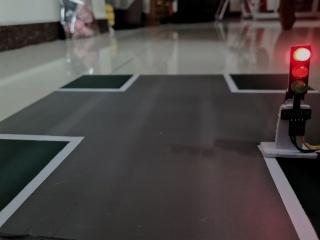red: (282, 41, 319, 109)
